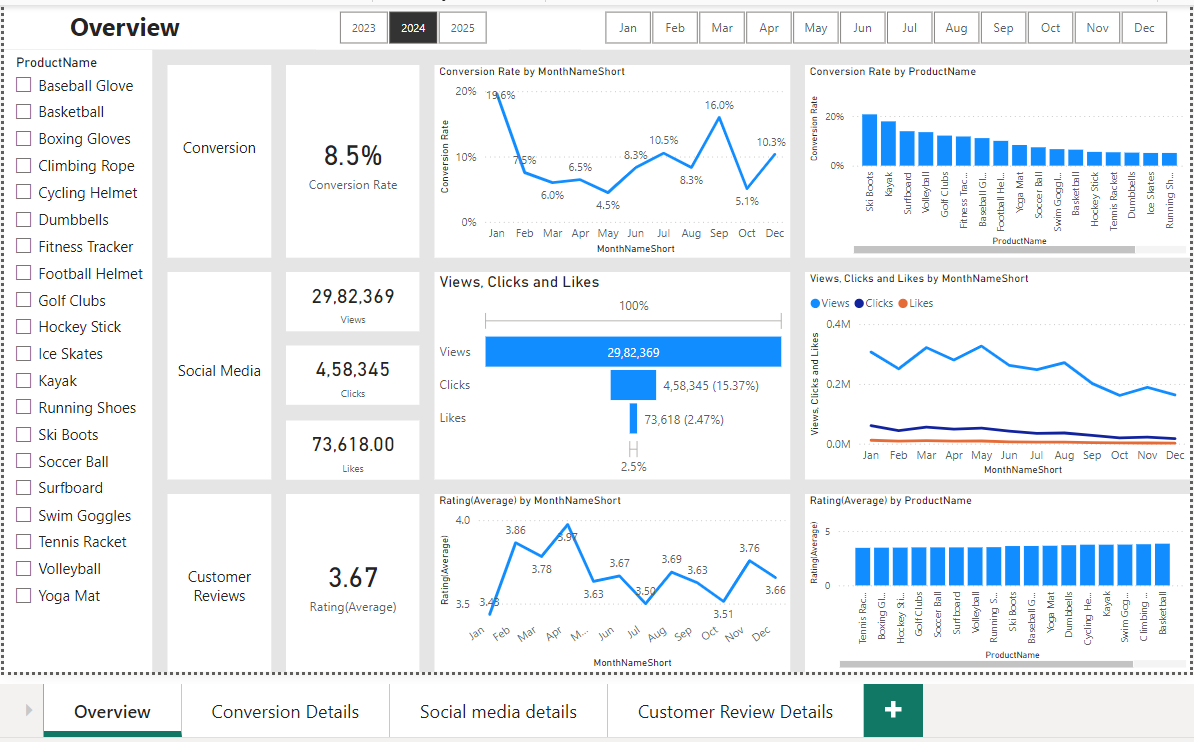

The dashboard page shown, as its layout file describes it:
{"tool":"powerbi","page":{"name":"Overview","canvas":[1600,750],"ordinal":0},"visuals":[{"type":"textbox","box":[0,0,1632,48],"z":0},{"type":"slicer","fields":{"Values":["dim_products.ProductName"]},"box":[0,64,208,672],"z":1000},{"type":"textbox","box":[224,64,160,208],"z":2000},{"type":"textbox","box":[224,288,160,224],"z":3000},{"type":"textbox","box":[224,528,160,208],"z":4000},{"type":"card","fields":{"Values":["Calculations.Conversion Rate"]},"box":[400,64,224,208],"z":5000},{"type":"card","fields":{"Values":["Calculations.Views"]},"box":[400,288,224,64],"z":6000},{"type":"card","fields":{"Values":["Calculations.Clicks"]},"box":[400,368,224,64],"z":7000},{"type":"card","fields":{"Values":["Calculations.Likes"]},"box":[400,448,224,64],"z":8000},{"type":"card","fields":{"Values":["Calculations.Rating(Average)"]},"box":[400,528,224,208],"z":9000},{"type":"slicer","fields":{"Values":["Calendar.Year"]},"box":[336,0,336,48],"z":10000},{"type":"slicer","fields":{"Values":["Calendar.MonthNameShort"]},"box":[672,0,928,48],"z":11000},{"type":"lineChart","fields":{"Y":["Calculations.Conversion Rate"],"Category":["Calendar.MonthNameShort"]},"box":[640,64,464,208],"z":12000},{"type":"columnChart","fields":{"Y":["Calculations.Conversion Rate"],"Category":["dim_products.ProductName"]},"box":[1120,64,464,208],"z":13000},{"type":"lineChart","fields":{"Category":["Calendar.MonthNameShort"],"Y":["Calculations.Views","Calculations.Clicks","Calculations.Likes"]},"box":[1120,288,464,224],"z":14000},{"type":"funnel","fields":{"Y":["Calculations.Views","Calculations.Clicks","Calculations.Likes"]},"box":[640,288,464,224],"z":15000},{"type":"lineChart","fields":{"Y":["Calculations.Rating(Average)"],"Category":["Calendar.MonthNameShort"]},"box":[640,528,464,208],"z":16000},{"type":"columnChart","fields":{"Category":["dim_products.ProductName"],"Y":["Calculations.Rating(Average)"]},"box":[1120,528,464,208],"z":17000}]}

Visuals, with their boxes on the page's 1600x750 design canvas (x1, y1, x2, y2). These are canvas units, not pixel positions in the 1194x742 screenshot, which may show the page scaled, cropped or inside an application window:
textbox: 0:0:1632:48
slicer - dim_products.ProductName: 0:64:208:736
textbox: 224:64:384:272
textbox: 224:288:384:512
textbox: 224:528:384:736
card - Calculations.Conversion Rate: 400:64:624:272
card - Calculations.Views: 400:288:624:352
card - Calculations.Clicks: 400:368:624:432
card - Calculations.Likes: 400:448:624:512
card - Calculations.Rating(Average): 400:528:624:736
slicer - Calendar.Year: 336:0:672:48
slicer - Calendar.MonthNameShort: 672:0:1600:48
lineChart - Calculations.Conversion Rate x Calendar.MonthNameShort: 640:64:1104:272
columnChart - Calculations.Conversion Rate x dim_products.ProductName: 1120:64:1584:272
lineChart - Calendar.MonthNameShort x Calculations.Views: 1120:288:1584:512
funnel - Calculations.Views x Calculations.Clicks: 640:288:1104:512
lineChart - Calculations.Rating(Average) x Calendar.MonthNameShort: 640:528:1104:736
columnChart - dim_products.ProductName x Calculations.Rating(Average): 1120:528:1584:736
